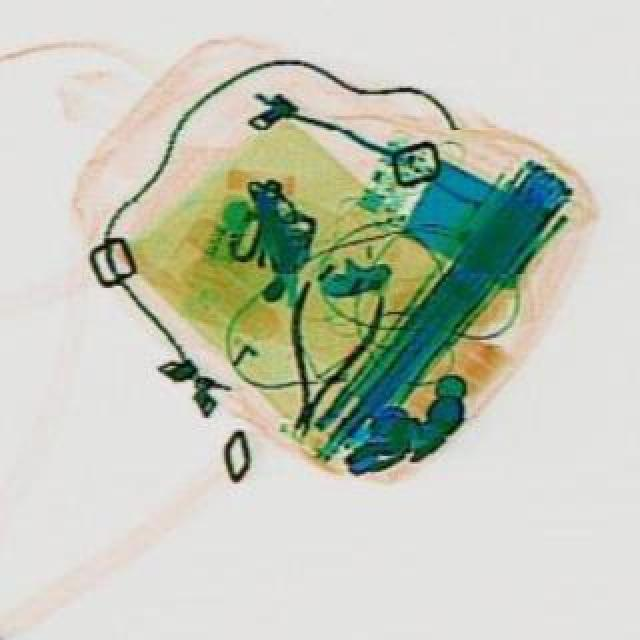wrench: (252, 272, 386, 448)
